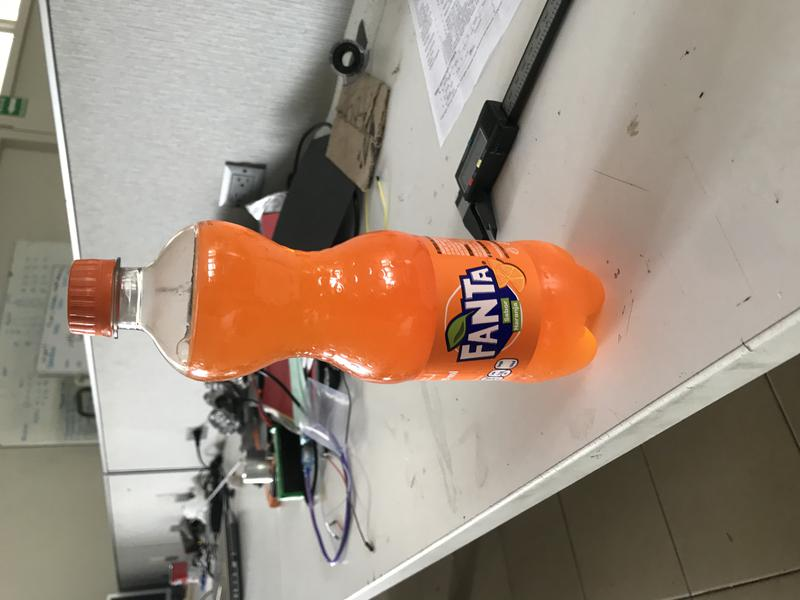fanta: (67, 220, 606, 385)
